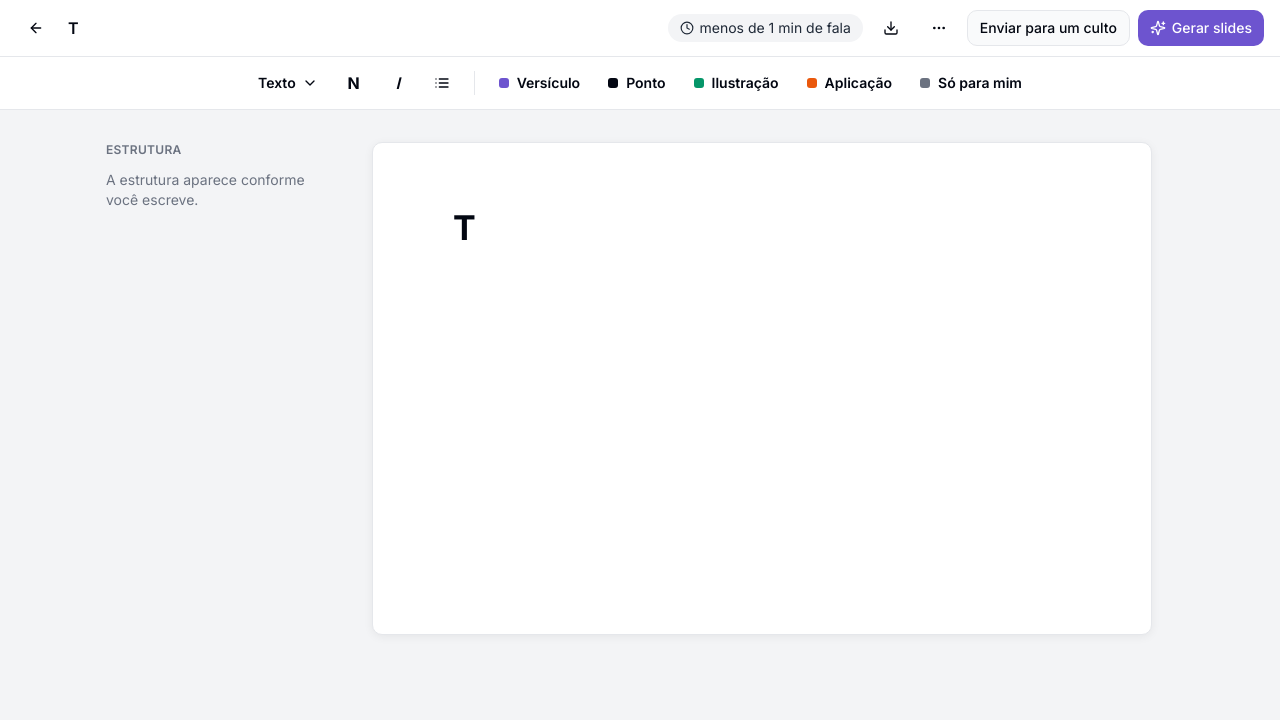
Test case: SermonEditorPage › voltar para a lista depois de salvar invalida a lista
Replace the text in the field named "Título da palavra" with "Novo" at {"x": 762, "y": 228}, box [453, 207, 1071, 250]
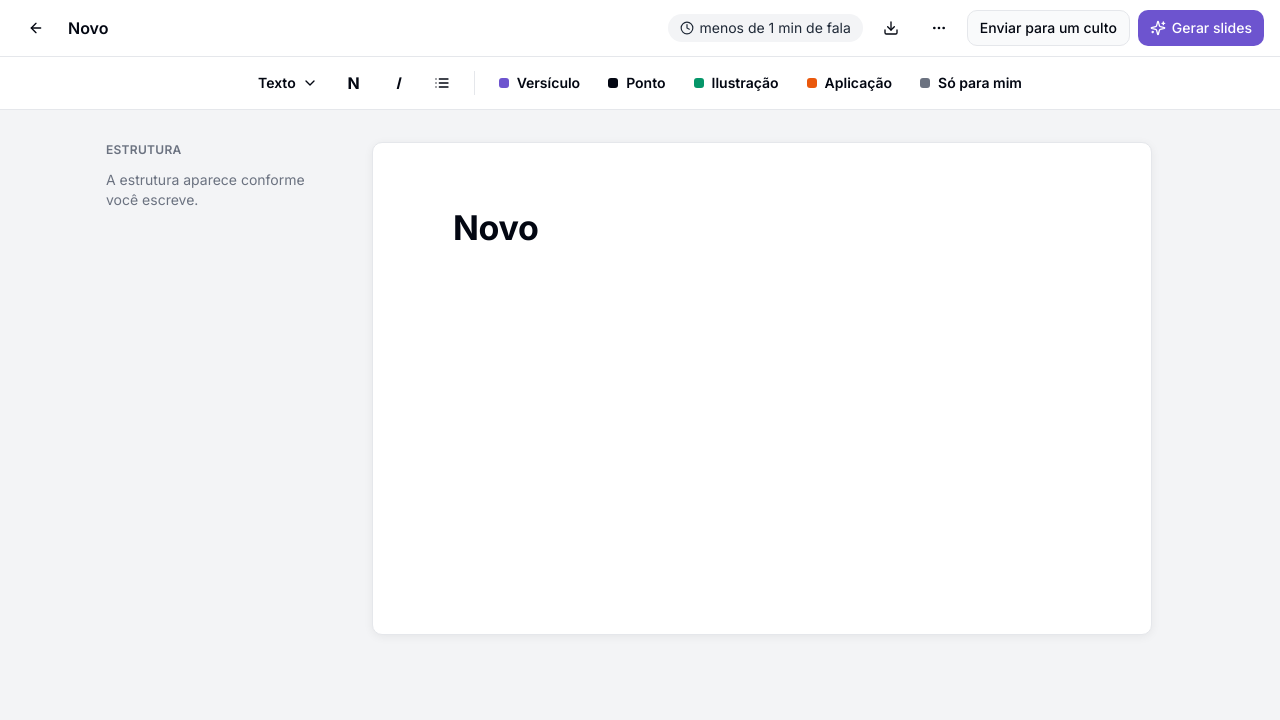
Click the button named "Voltar para Palavras" at {"x": 36, "y": 28}, box [16, 8, 56, 48]
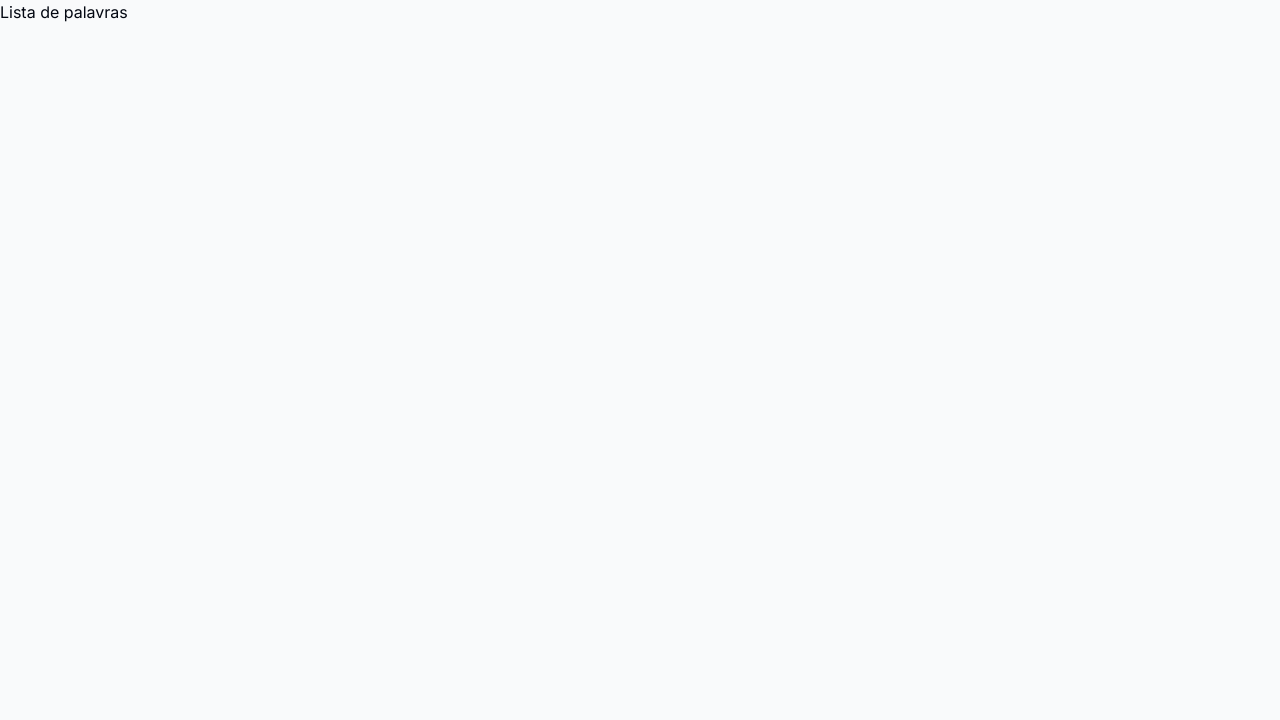
expect the text "Lista de palavras" is shown: met, box [0, 2, 128, 22]
